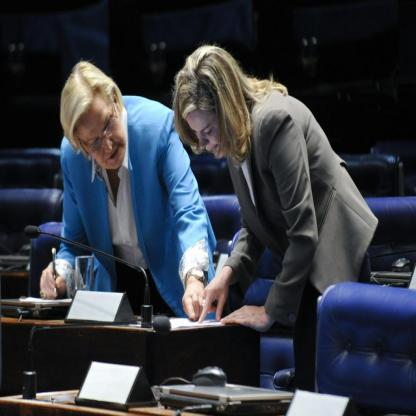board: (149, 379, 293, 410), (0, 297, 72, 319), (370, 269, 412, 285)
